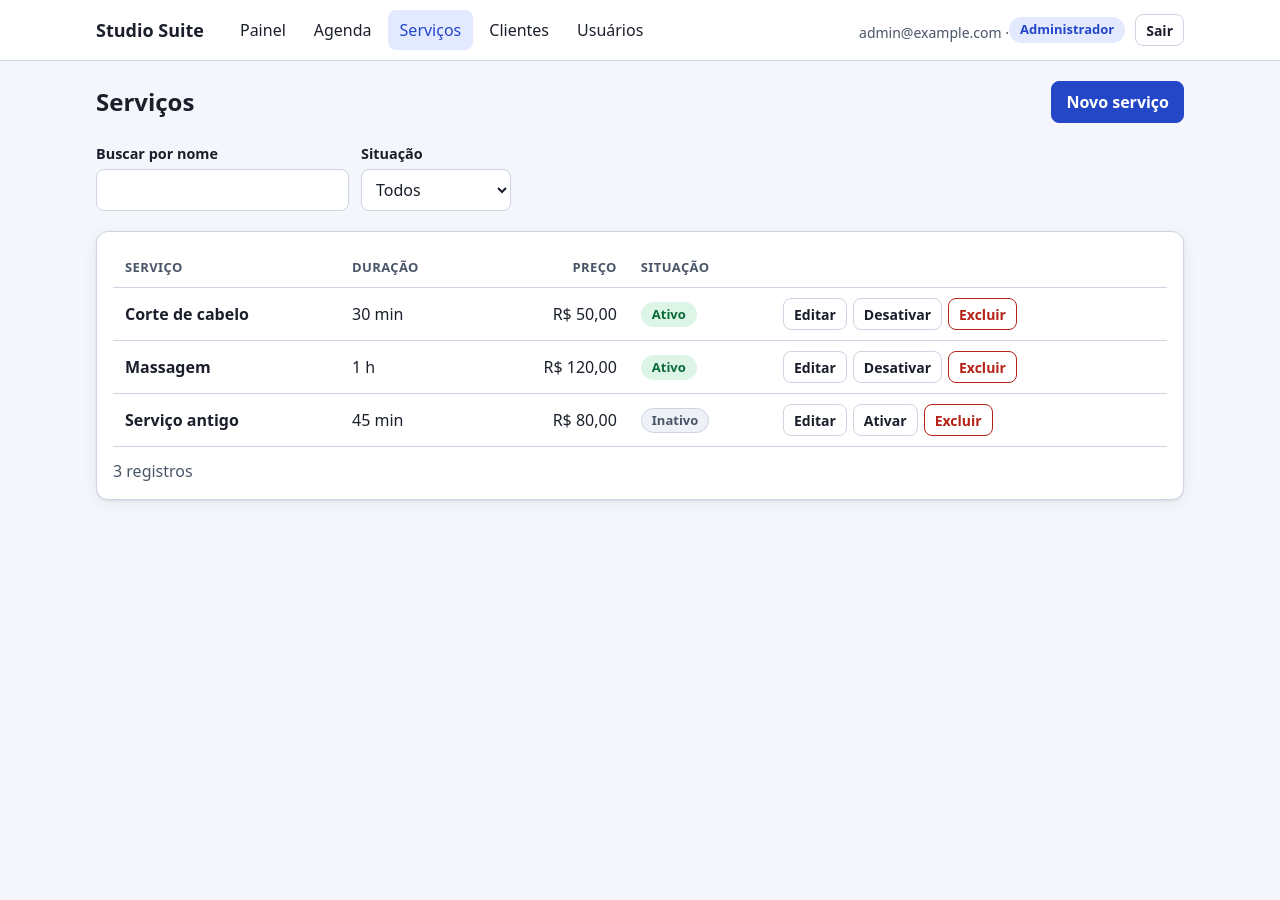
Test: services CRUD › validates in the browser first: nothing is sent and each field explains itself
Check: the heading "Serviços" is shown, box [96,87,194,117]
Click the button "Novo serviço" at (1118, 102), box [1052,81,1184,123]
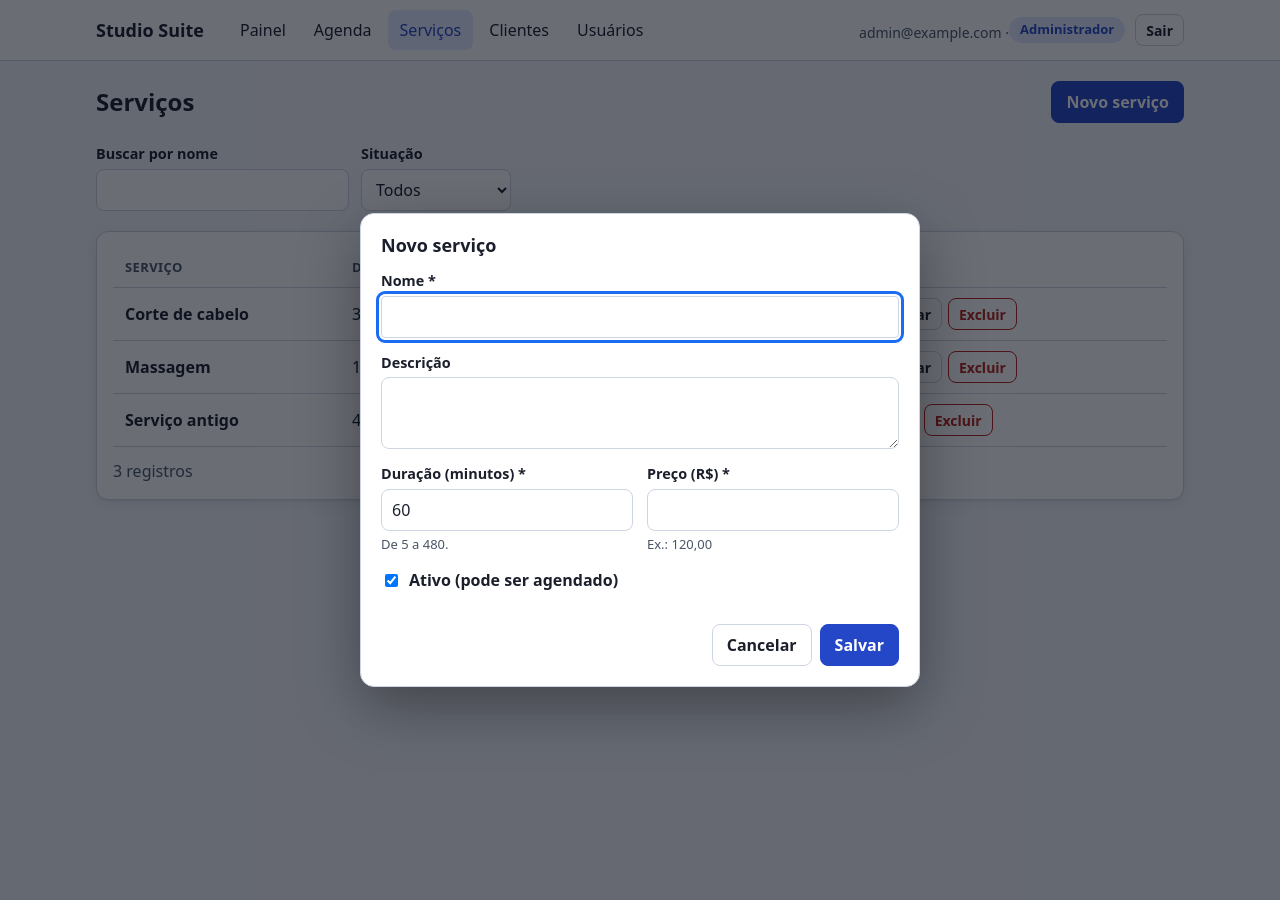
Clear the number field labelled "Duração (minutos) *" at (507, 510), box [381,489,633,531]
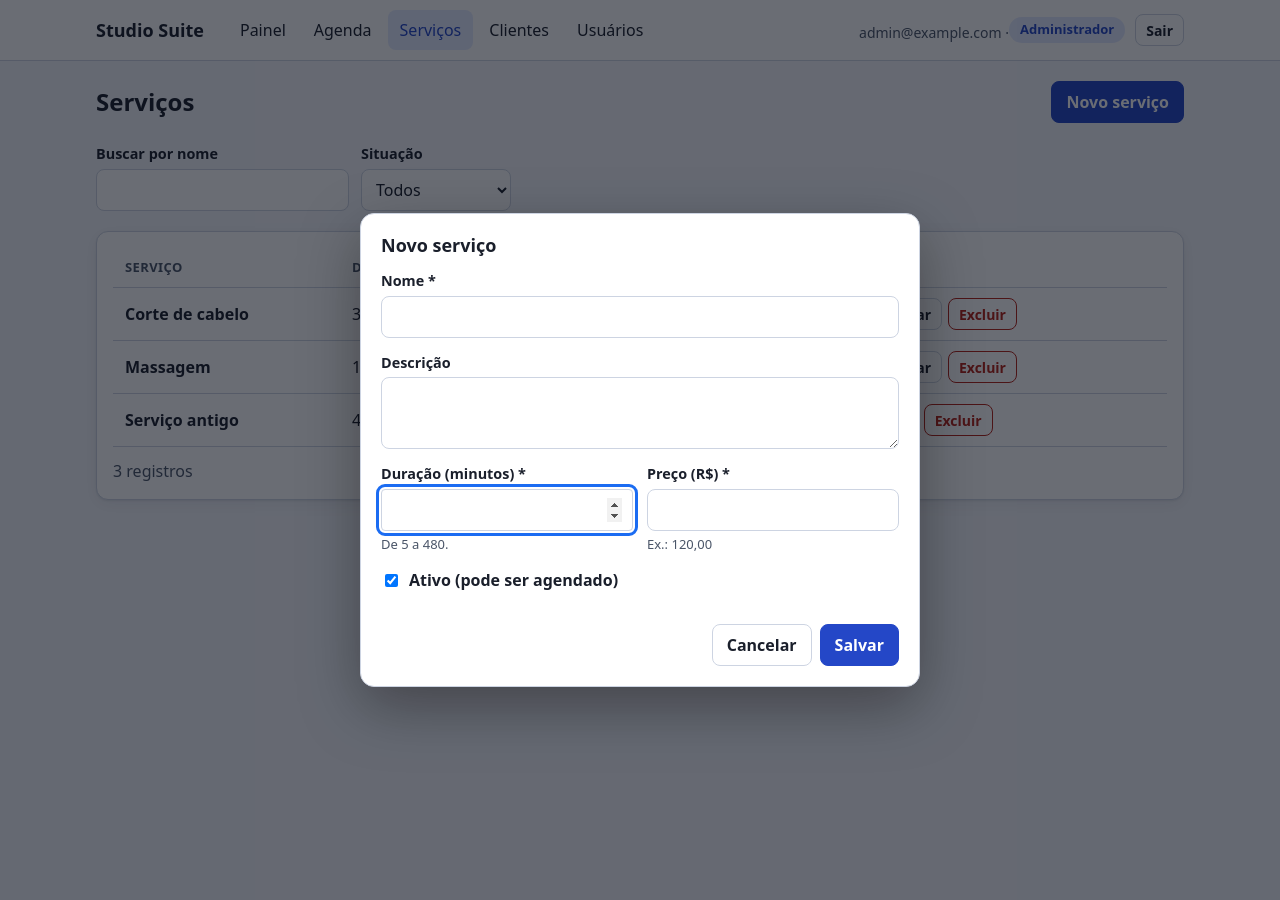
Click the button "Salvar" at (859, 645), box [820,624,899,666]
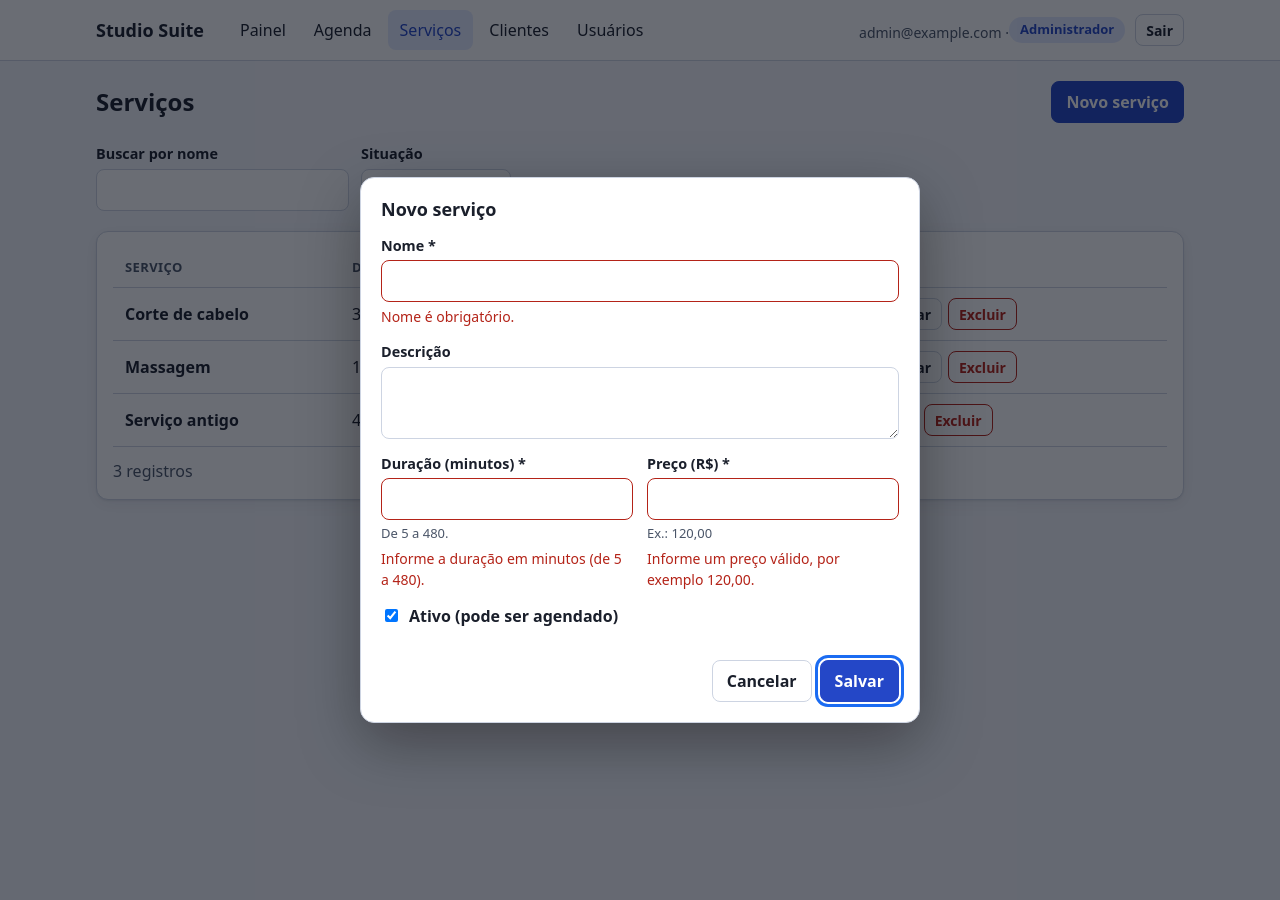
Check: the text "Nome é obrigatório." is shown, box [381,307,514,326]
Check: the text "Informe a duração em minutos (de 5 a 480)." is shown, box [381,548,633,590]
Check: the text "Informe um preço válido, por exemplo 120,00." is shown, box [647,549,840,589]
